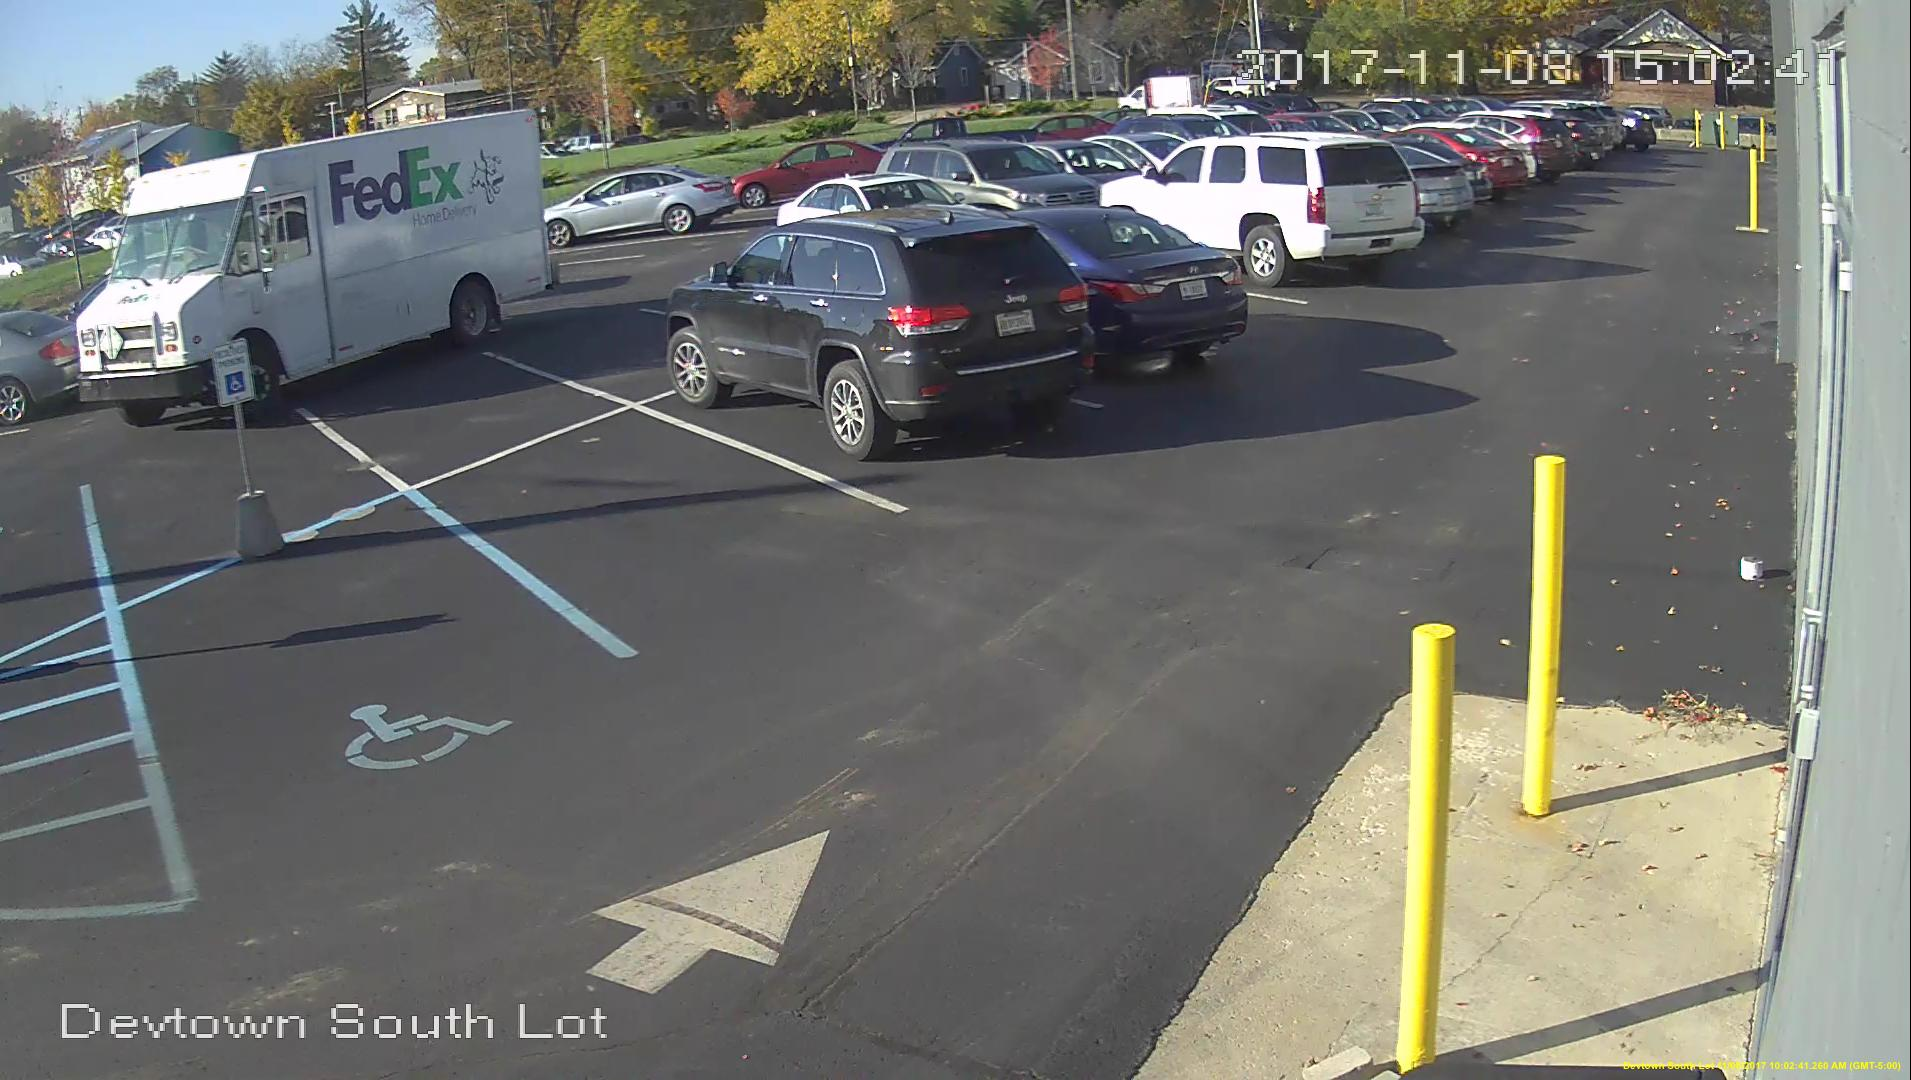fedex_truck: (60, 108, 567, 413)
